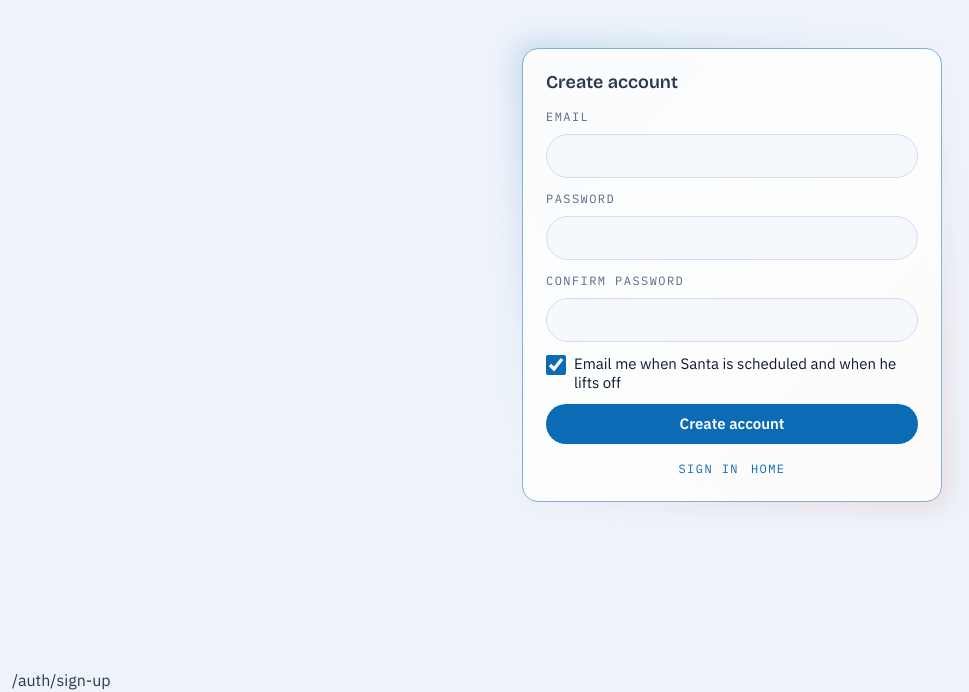
Scenario: SignUpPage alerts box › stores no intent when the client checks fail
Type "a@e.com" into the field labelled "Email". click: (732, 156)
box: [546,134,918,178]
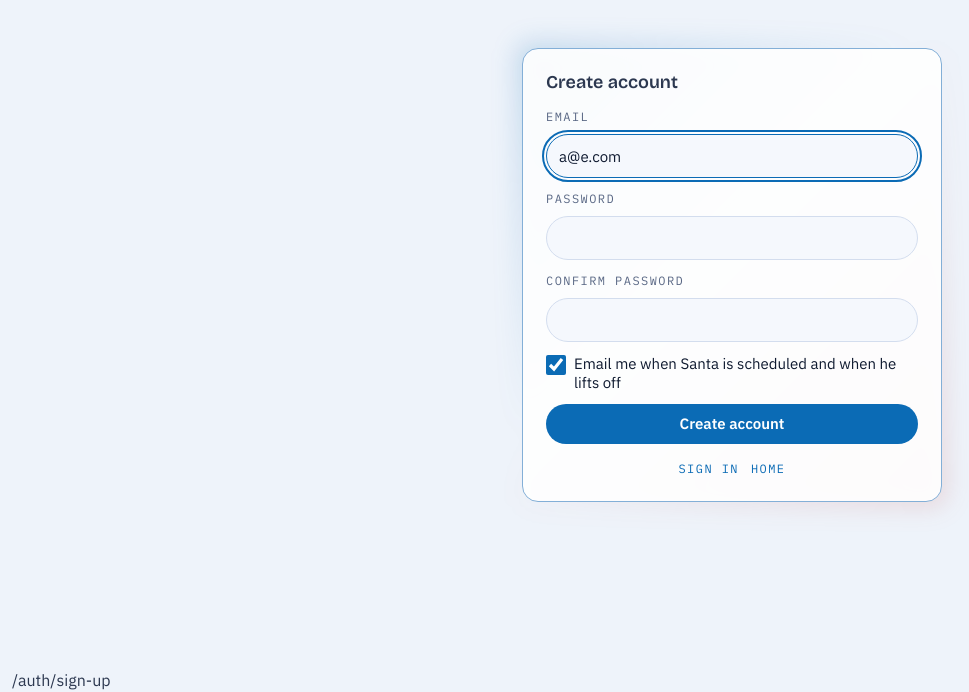
Type "short" into the password field labelled "Password". click: (732, 238)
box: [546,216,918,260]
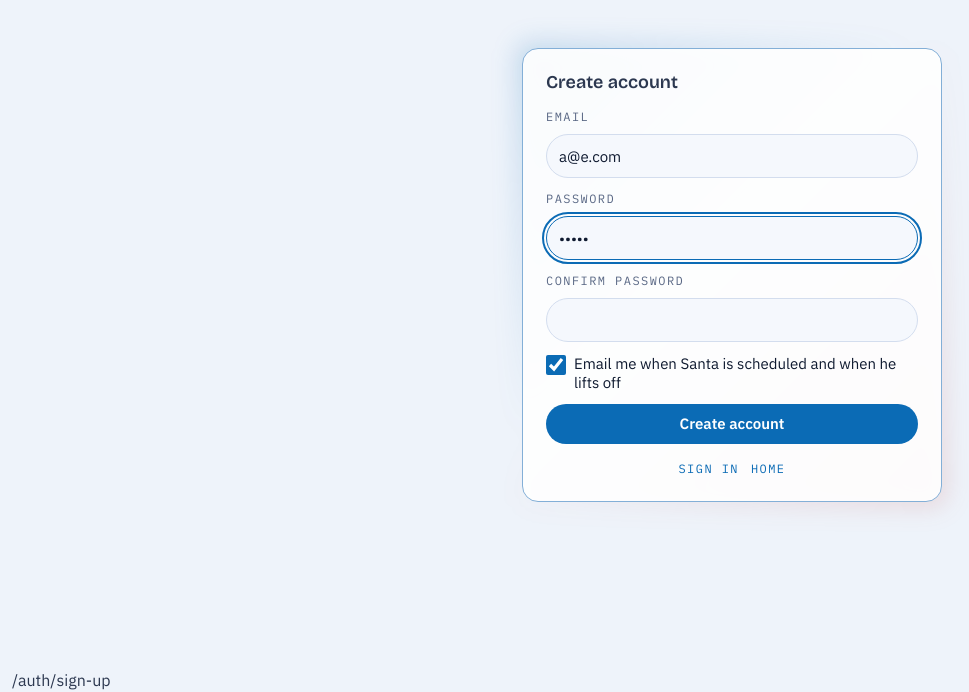
Type "short" into the password field labelled "Confirm password". click: (732, 320)
box: [546,298,918,342]
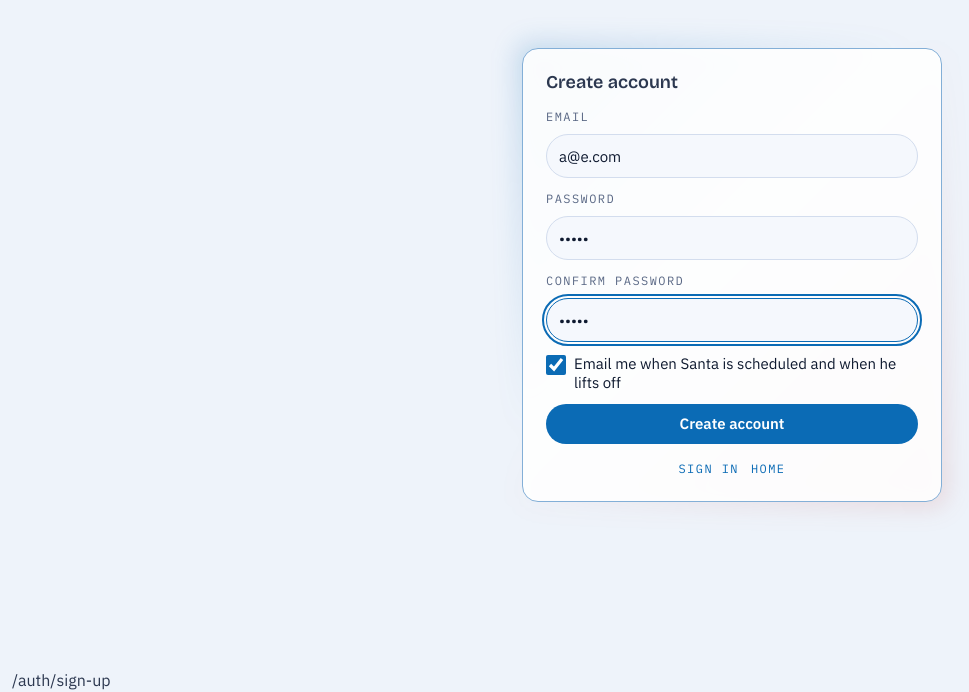
Click the button with test id "auth-submit". click: (732, 424)
box: [546,404,918,444]
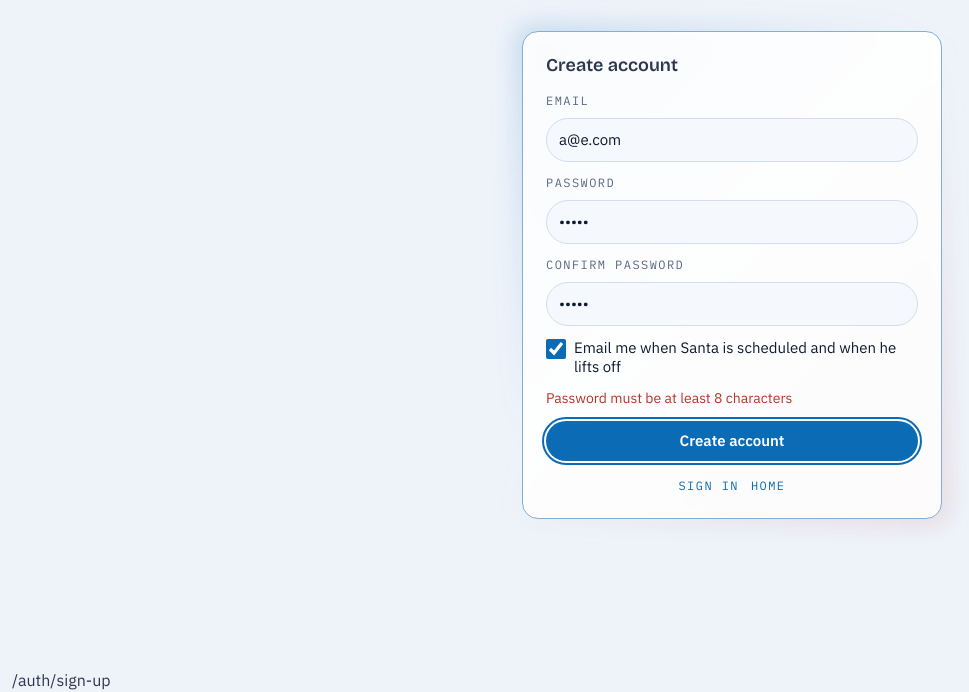
Expected: the message "Password must be at least 8 characters" is shown, [546,389,792,407]
